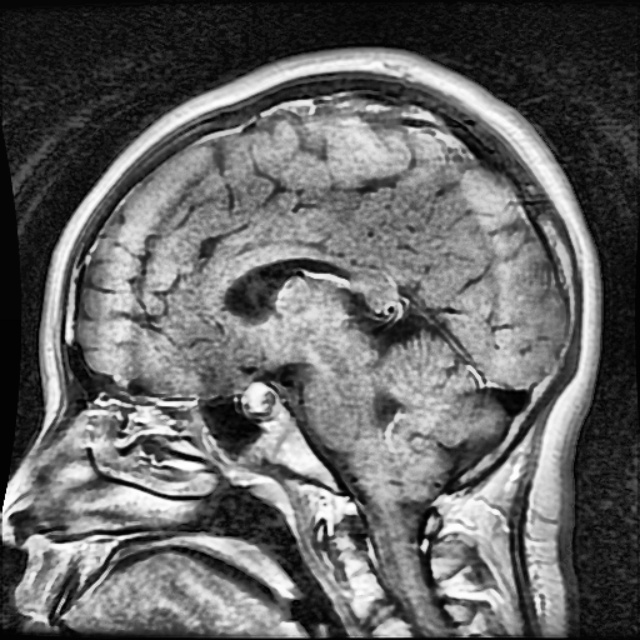Pituitary: (239, 383, 277, 419)
